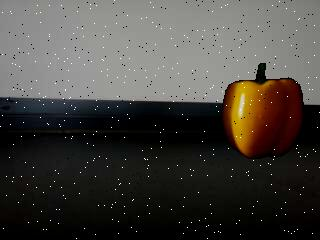Capsicum: (222, 61, 305, 160)
